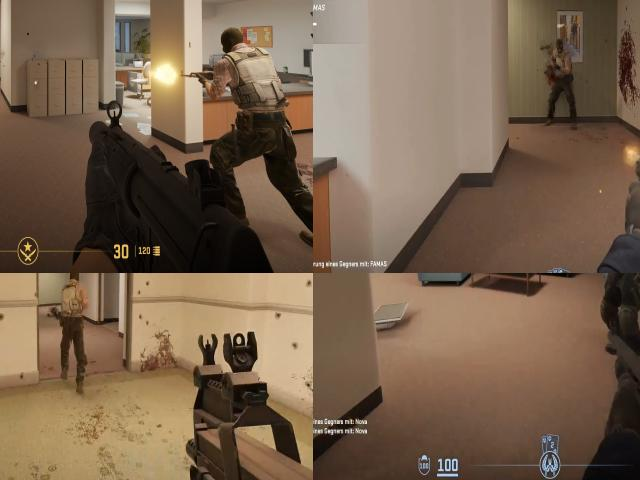CT: (598, 273, 640, 341)
T: (218, 24, 292, 204), (54, 273, 91, 332), (549, 32, 574, 94)
T-Head: (221, 28, 243, 52), (60, 273, 87, 291), (553, 36, 567, 56)
